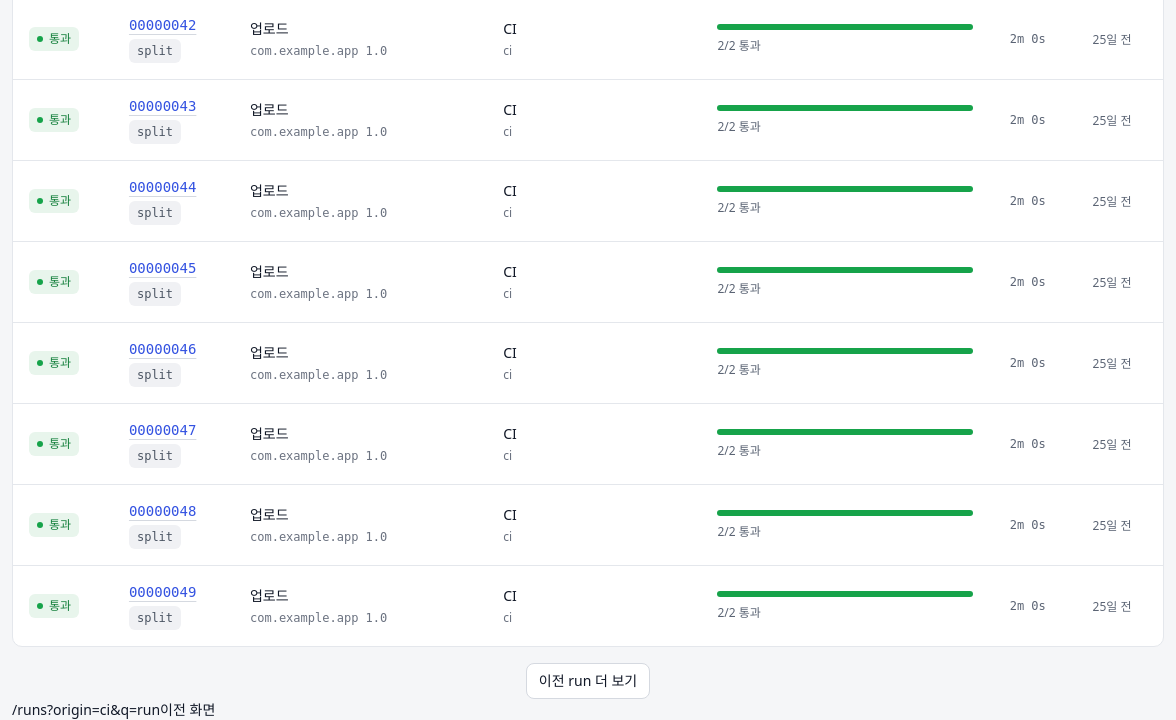
Test case: pages using the last row id and returns to the first page without losing filters
(page scrolled)
Click the button "이전 run 더 보기". click: x=588, y=681
box: [526,663,650,699]
(page scrolled)
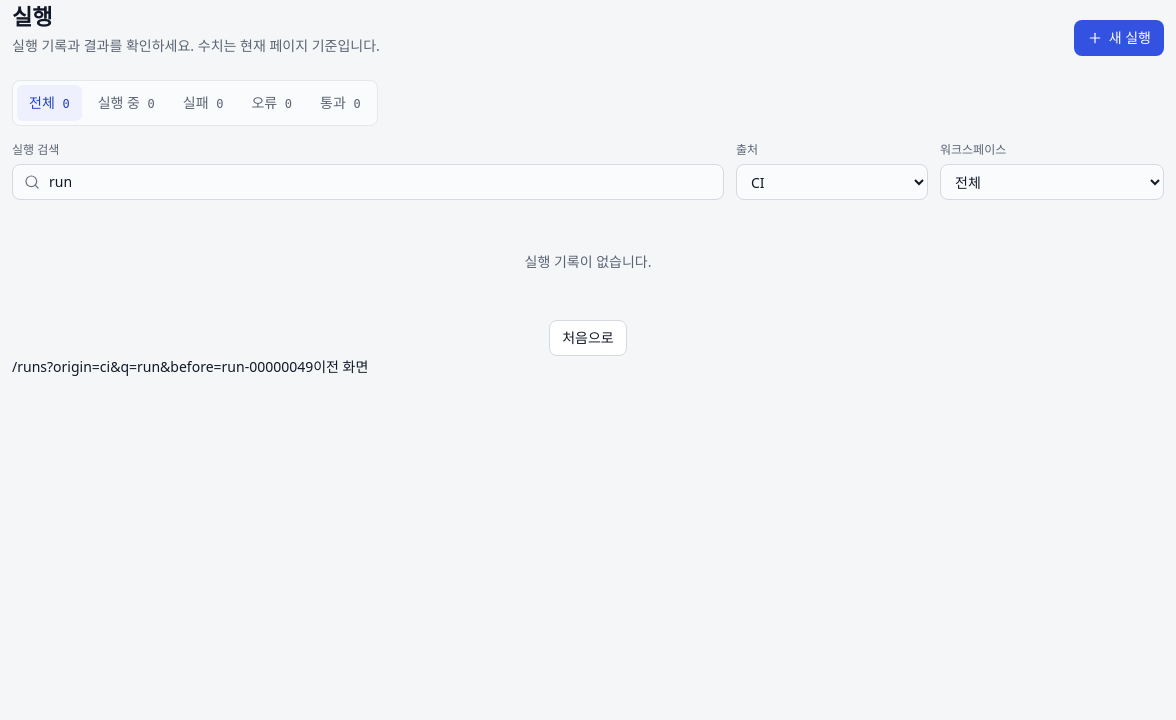
Expected: the text "실행 기록이 없습니다." is shown, [524,252,652,271]
Expected: the button "이전 run 더 보기" is gone
Click the button "처음으로". click: x=588, y=338
box: [549,320,627,356]
(page scrolled)
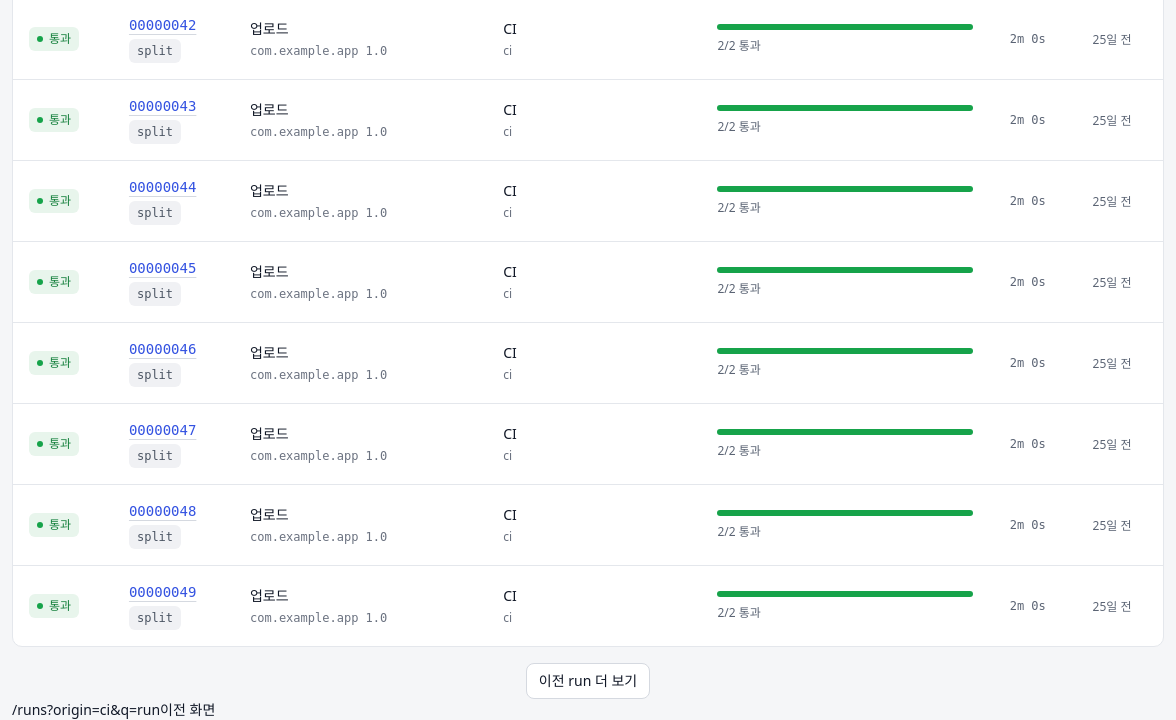
Expected: the text named "현재 주소" reads "/runs?origin=ci&q=run", [12,700,160,719]
Expected: the button "처음으로" is gone
